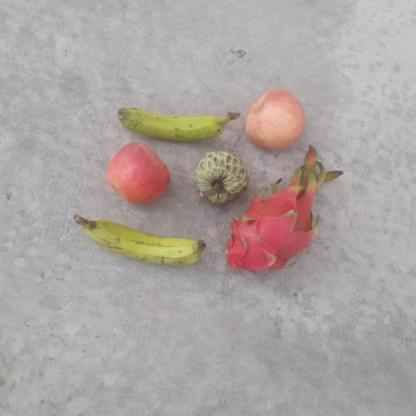annona: (194, 150, 252, 206)
apple: (106, 139, 175, 205), (241, 86, 304, 149)
banana: (84, 214, 207, 270), (114, 98, 231, 147)
pitaya: (220, 187, 324, 279)
